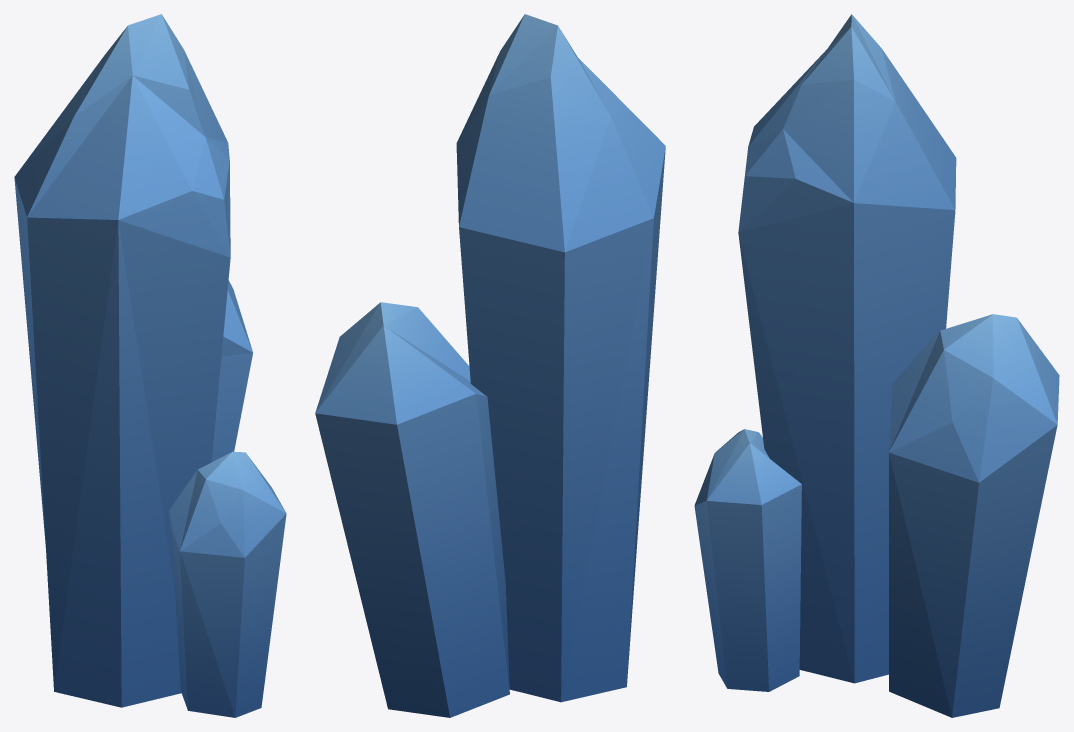
File: crystals_06.fbx
3 renders of one model, left to right at view 1: azimuth 30°, elevation 25°; view 2: azimuth 150°, elevation 25°; view 3: azimuth 270°, elevation 25°, orthographic.
Visible parts, largest first — view 1: crystal_008; view 2: crystal_008; view 3: crystal_008.
Boxes of the visible parts, bbox=[...] form: crystal_008: bbox=[14, 14, 286, 717]; crystal_008: bbox=[315, 14, 665, 717]; crystal_008: bbox=[694, 14, 1059, 717].
Bounding box in the file's own units: 4.19 × 9.68 × 4.92.
Materials: 1 (1 with a texture image).
